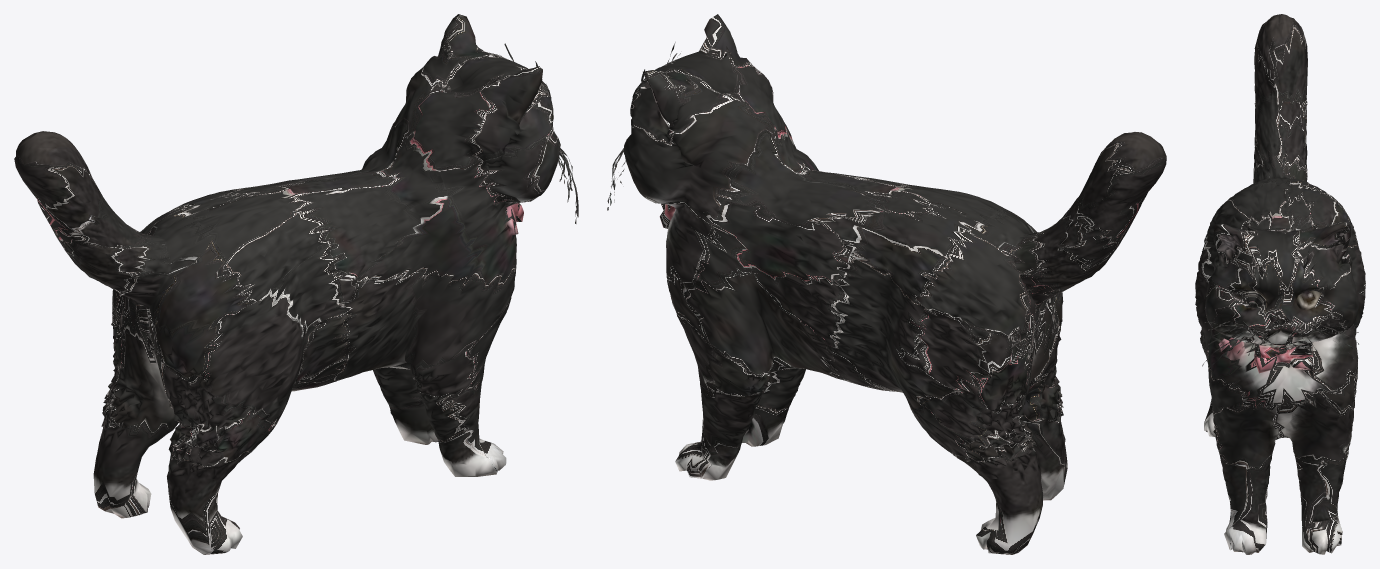
File: UNIUNI-lo.glb
The picture shows the model from 3 angles, left to right: view 1: azimuth 30°, elevation 25°; view 2: azimuth 150°, elevation 25°; view 3: azimuth 270°, elevation 25°; orthographic projection. The views are drawn at different scales.
Visible parts, largest first — view 1: tripo_node_82a5628e-ff59-4e76-8ebc-1d98cefabe6f; view 2: tripo_node_82a5628e-ff59-4e76-8ebc-1d98cefabe6f; view 3: tripo_node_82a5628e-ff59-4e76-8ebc-1d98cefabe6f.
Part boxes in pixels (<box>): tripo_node_82a5628e-ff59-4e76-8ebc-1d98cefabe6f: <box>14,14,578,554</box>; tripo_node_82a5628e-ff59-4e76-8ebc-1d98cefabe6f: <box>607,14,1166,554</box>; tripo_node_82a5628e-ff59-4e76-8ebc-1d98cefabe6f: <box>1195,14,1365,554</box>.
Size of the model in its own units: 1.32 by 0.9987 by 0.4298.
1 material, 1 textured.
